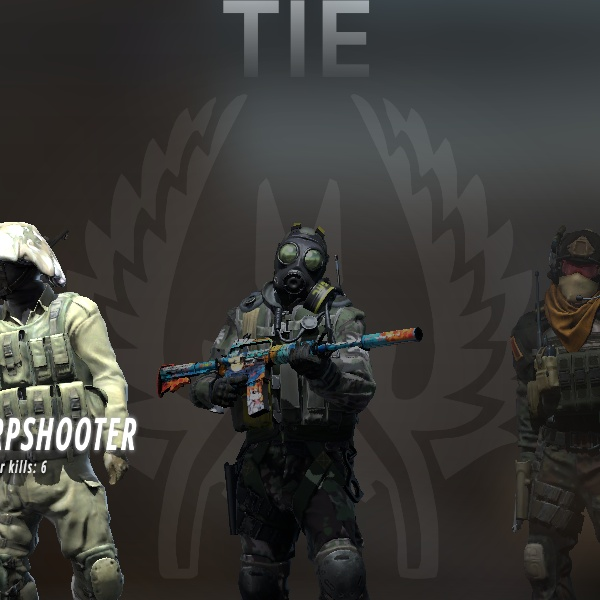ct_body: (172, 220, 408, 600), (0, 199, 156, 600)
ct_head: (0, 211, 67, 325), (260, 225, 342, 305), (539, 217, 599, 320)
